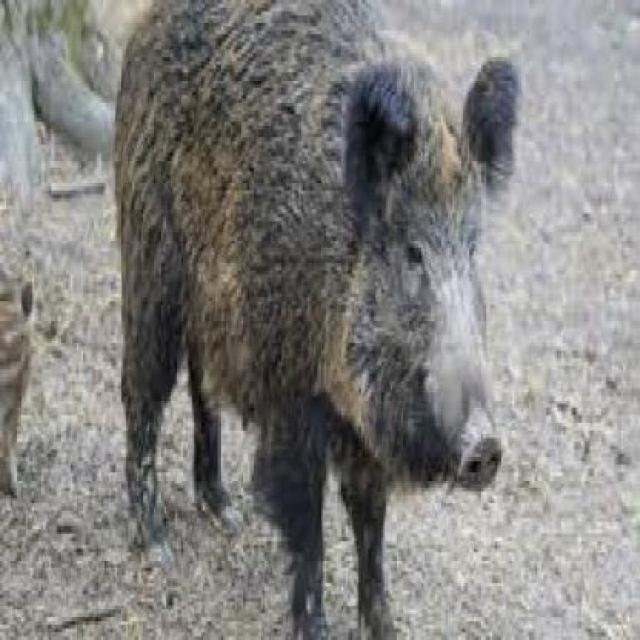wildboar: (109, 0, 522, 640)
